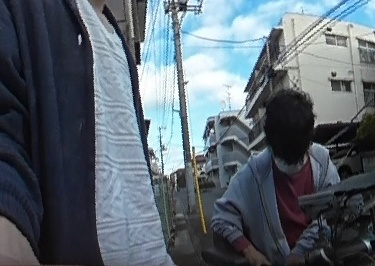person: (224, 91, 338, 265)
